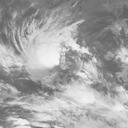cyclone: (14, 25, 63, 77)
